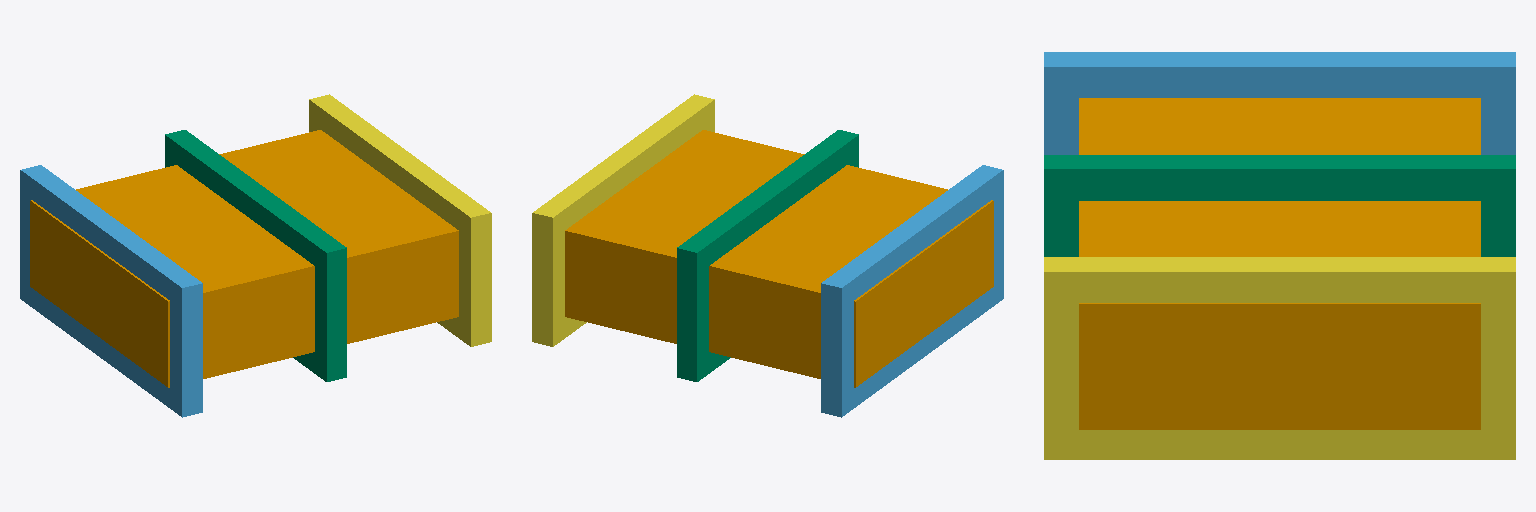
The robot description file, URDF, robot "debris013":
<?xml version="1.0" ?>
<robot name="debris013">

<link name="debris013">
<visual> <origin xyz="0 0 0" rpy="0 0 0" />
<geometry> <box size="0.76 0.58 0.20"/> </geometry>
</visual>
<collision> <origin xyz="0 0 0" rpy="0 0 0" />
<geometry> <box size="0.76 0.58 0.20"/> </geometry>
</collision>
<inertial> <origin xyz="0 0 0" rpy="0 0 0" />
<mass value="10.0" />
<inertia ixx="0.4398" ixy="0" ixz="0" iyy="0.4398" iyz="0" izz="0.4398" />
</inertial>
</link>
<gazebo reference="debris013"> <material>Gazebo/WoodPallet</material> </gazebo>

<link name="debris0130">
<visual> <origin xyz="-0.35 0 0" rpy="0 0 0" />
<geometry> <box size="0.05 0.68 0.30"/> </geometry>
</visual>
<collision> <origin xyz="-0.35 0 0" rpy="0 0 0" />
<geometry> <box size="0.05 0.68 0.30"/> </geometry>
</collision>
<inertial> <origin xyz="0 0 0" rpy="0 0 0" />
<mass value="0.1" />
<inertia ixx="0.0100" ixy="0" ixz="0" iyy="0.0100" iyz="0" izz="0.0100" />
</inertial>
</link>
<gazebo reference="debris0130"> <material>Gazebo/WoodPallet</material> </gazebo>

<joint name="debris0130joint" type="fixed">
<parent link="debris013"/>
<child link="debris0130"/>
<origin xyz="0 0 0" rpy="0 0 0" />
</joint>

<link name="debris0131">
<visual> <origin xyz="0.00 0 0" rpy="0 0 0" />
<geometry> <box size="0.05 0.68 0.30"/> </geometry>
</visual>
<collision> <origin xyz="0.00 0 0" rpy="0 0 0" />
<geometry> <box size="0.05 0.68 0.30"/> </geometry>
</collision>
<inertial> <origin xyz="0 0 0" rpy="0 0 0" />
<mass value="0.1" />
<inertia ixx="0.0100" ixy="0" ixz="0" iyy="0.0100" iyz="0" izz="0.0100" />
</inertial>
</link>
<gazebo reference="debris0131"> <material>Gazebo/WoodPallet</material> </gazebo>

<joint name="debris0131joint" type="fixed">
<parent link="debris013"/>
<child link="debris0131"/>
<origin xyz="0 0 0" rpy="0 0 0" />
</joint>

<link name="debris0132">
<visual> <origin xyz="0.35 0 0" rpy="0 0 0" />
<geometry> <box size="0.05 0.68 0.30"/> </geometry>
</visual>
<collision> <origin xyz="0.35 0 0" rpy="0 0 0" />
<geometry> <box size="0.05 0.68 0.30"/> </geometry>
</collision>
<inertial> <origin xyz="0 0 0" rpy="0 0 0" />
<mass value="0.1" />
<inertia ixx="0.0100" ixy="0" ixz="0" iyy="0.0100" iyz="0" izz="0.0100" />
</inertial>
</link>
<gazebo reference="debris0132"> <material>Gazebo/WoodPallet</material> </gazebo>

<joint name="debris0132joint" type="fixed">
<parent link="debris013"/>
<child link="debris0132"/>
<origin xyz="0 0 0" rpy="0 0 0" />
</joint>

</robot>

--- What the picture shows (computed from the rendered views, not written in the file) ---
Views: 3 orthographic renders of the robot side by side, from view 1: azimuth 30°, elevation 25°; view 2: azimuth 150°, elevation 25°; view 3: azimuth 270°, elevation 25°.
Model debris013 with 4 links and 3 joints (3 fixed), rooted at debris013, posed every joint at zero.
Links seen in each view (by area): view 1: debris013, debris0130, debris0132, debris0131; view 2: debris013, debris0130, debris0132, debris0131; view 3: debris013, debris0132, debris0130, debris0131.
Boxes of the visible links, box(x1,y1,x2,y2) form: debris013: box(30, 130, 458, 387); debris0130: box(20, 165, 202, 417); debris0132: box(309, 94, 491, 346); debris0131: box(165, 130, 346, 381); debris013: box(565, 130, 993, 387); debris0130: box(821, 165, 1003, 417); debris0132: box(532, 94, 714, 346); debris0131: box(677, 130, 858, 381); debris013: box(1079, 98, 1480, 429); debris0132: box(1044, 257, 1515, 459); debris0130: box(1044, 52, 1515, 154); debris0131: box(1044, 155, 1515, 256).
Bounding box of the posed robot: 0.76 × 0.68 × 0.3 m (x, y, z).
Geometry: primitives only (box / cylinder / sphere), no mesh files.
